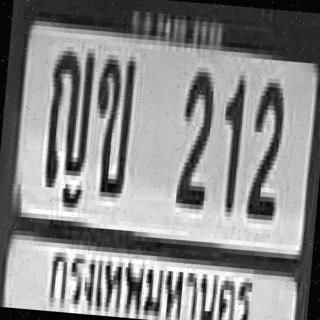A02: (88, 49, 134, 193)
A13: (42, 43, 94, 188)
N01: (215, 72, 245, 210)
N02: (174, 66, 215, 205), (244, 77, 284, 216)
P04: (45, 233, 258, 320)
